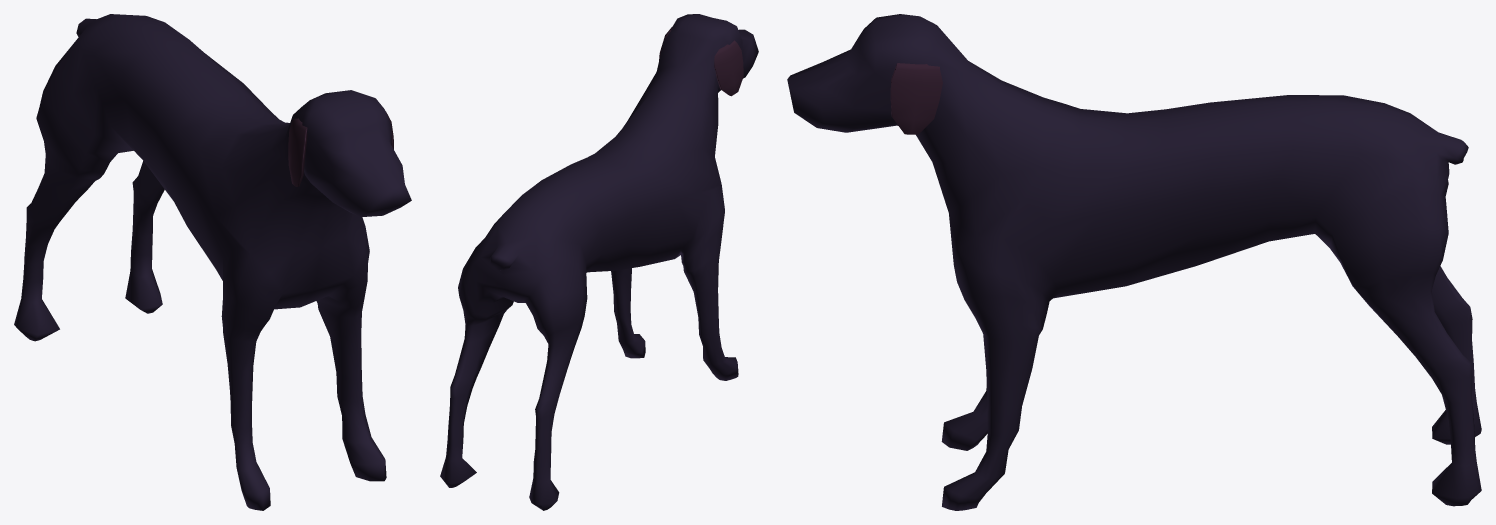
3 views of the same model, side by side, from view 1: azimuth 30°, elevation 25°; view 2: azimuth 150°, elevation 25°; view 3: azimuth 270°, elevation 25° (orthographic). The views are drawn at different scales.
Visible parts, largest first — view 1: dog1:body; view 2: dog1:body; view 3: dog1:body.
Boxes of the visible parts, x1,y1,x2,y2 form: dog1:body: (14, 14, 411, 510); dog1:body: (440, 14, 758, 510); dog1:body: (787, 14, 1481, 510).
Size of the model in its own units: 1.81 by 4.96 by 6.93.
